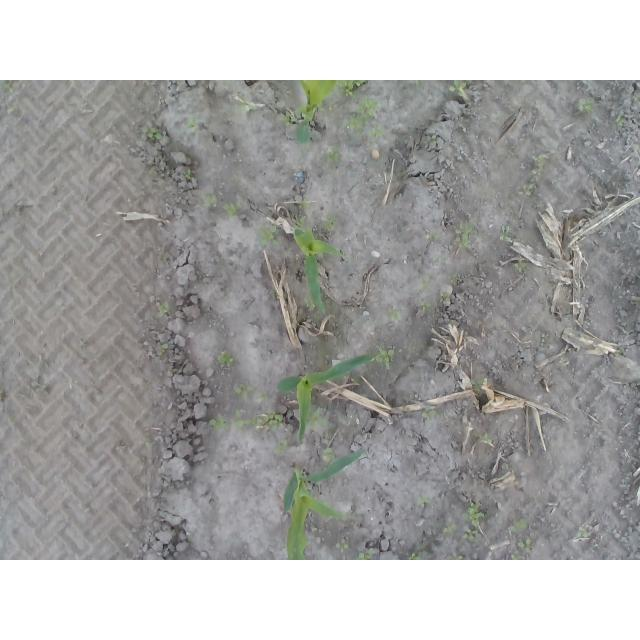Maize: (281, 446, 367, 560), (275, 354, 378, 443), (291, 221, 345, 319), (292, 80, 336, 144)
Weeds: (208, 408, 285, 433), (345, 95, 384, 141), (510, 514, 530, 560), (232, 380, 269, 402), (463, 500, 481, 544), (254, 224, 285, 249), (452, 219, 477, 249), (334, 80, 369, 100), (376, 344, 397, 373), (307, 407, 333, 429), (236, 93, 258, 116), (446, 81, 467, 100), (528, 154, 544, 178), (318, 143, 338, 162), (216, 350, 234, 371), (182, 110, 200, 130), (222, 199, 242, 217), (478, 428, 495, 448), (153, 302, 171, 320), (517, 180, 536, 197), (498, 224, 513, 245), (320, 213, 337, 231), (386, 305, 403, 323), (419, 405, 434, 425), (143, 125, 161, 141), (512, 257, 528, 275), (442, 521, 458, 539), (279, 114, 294, 131), (335, 538, 350, 554), (320, 445, 337, 459), (577, 97, 592, 112), (414, 495, 430, 509), (157, 340, 170, 357), (449, 273, 464, 287), (576, 526, 593, 538), (1, 80, 16, 93), (419, 302, 433, 315), (431, 254, 450, 263), (430, 230, 443, 243), (355, 548, 369, 560), (207, 193, 218, 207), (446, 552, 463, 561), (407, 552, 423, 561), (183, 166, 194, 179), (273, 445, 286, 455), (615, 115, 626, 126), (438, 291, 450, 301), (311, 526, 321, 534)
